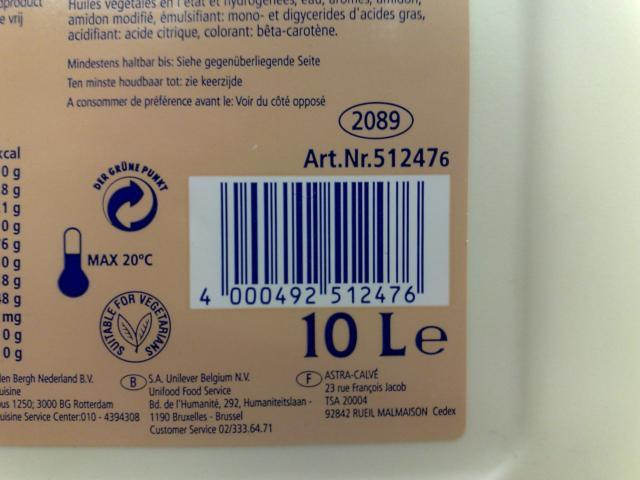Barcode: (189, 175, 448, 308)
